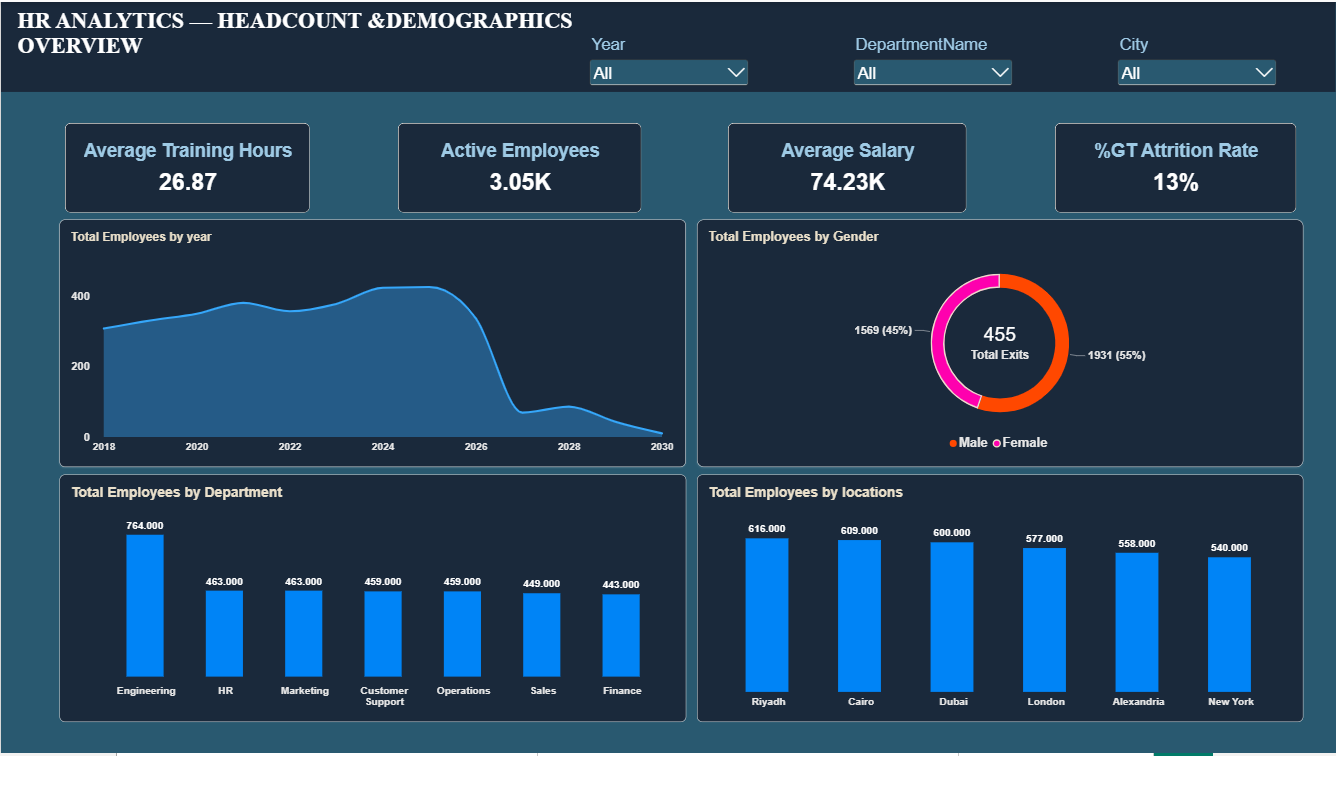

This screenshot's page, from the dashboard's own definition file:
{"tool":"powerbi","page":{"name":"HR ANALYTICS — HEADCOUNT &DEMOGRAPHICS OVERVIEW","canvas":[1920,1080],"ordinal":0},"visuals":[{"type":"shape","box":[0,0,1919.3,129.5],"z":0},{"type":"textbox","box":[22.7,0,817.7,129.5],"z":1000},{"type":"slicer","fields":{"Values":["Departments.DepartmentName"]},"box":[1221,47.7,238.5,115.8],"z":2000},{"type":"slicer","fields":{"Values":["Office_Locations.City"]},"box":[1601.3,47.7,238.5,115.8],"z":3000},{"type":"slicer","title":"years ","fields":{"Values":["Dim_Calendar.Year"]},"box":[840.8,47.7,238.5,115.8],"z":4000},{"type":"cardVisual","fields":{"Data":["ALL_MEASURES_.Active Employees"]},"box":[560.3,163.5,370.2,149.9],"z":5000},{"type":"cardVisual","fields":{"Data":["ALL_MEASURES_.Average Salary"]},"box":[1036.5,163.5,363.4,149.9],"z":6000},{"type":"cardVisual","fields":{"Data":["ALL_MEASURES_.Average Training Hours"]},"box":[81.8,163.5,372.5,149.9],"z":7000},{"type":"cardVisual","fields":{"Data":["ALL_MEASURES_.Attrition Rate %"]},"box":[1505.9,163.5,368,149.9],"z":8000},{"type":"areaChart","title":"Total Employees by year","fields":{"Category":["Dim_Calendar.Year"],"Y":["ALL_MEASURES_.Total Employees"]},"box":[83.6,313,900.7,356],"z":9000},{"type":"donutChart","title":"Total Employees by Gender","fields":{"Category":["Employees.Gender"],"Y":["ALL_MEASURES_.Total Employees"]},"box":[1001,313,872,356],"z":10000},{"type":"clusteredColumnChart","title":"Total Employees by Department","fields":{"Category":["Departments.DepartmentName"],"Y":["ALL_MEASURES_.Total Employees"]},"box":[84,679,901,356],"z":11000},{"type":"clusteredColumnChart","title":"Total Employees by locations","fields":{"Category":["Office_Locations.City"],"Y":["ALL_MEASURES_.Total Employees"]},"box":[1001,678.5,872,356],"z":12000}]}

Visuals, with their boxes on the page's 1920x1080 design canvas (x1, y1, x2, y2). These are canvas units, not pixel positions in the 1336x800 screenshot, which may show the page scaled, cropped or inside an application window:
shape: region(0, 0, 1919, 130)
textbox: region(23, 0, 840, 130)
slicer - Departments.DepartmentName: region(1221, 48, 1460, 164)
slicer - Office_Locations.City: region(1601, 48, 1840, 164)
"years " slicer: region(841, 48, 1079, 164)
cardVisual - ALL_MEASURES_.Active Employees: region(560, 164, 930, 313)
cardVisual - ALL_MEASURES_.Average Salary: region(1036, 164, 1400, 313)
cardVisual - ALL_MEASURES_.Average Training Hours: region(82, 164, 454, 313)
cardVisual - ALL_MEASURES_.Attrition Rate %: region(1506, 164, 1874, 313)
"Total Employees by year" areaChart: region(84, 313, 984, 669)
"Total Employees by Gender" donutChart: region(1001, 313, 1873, 669)
"Total Employees by Department" clusteredColumnChart: region(84, 679, 985, 1035)
"Total Employees by locations" clusteredColumnChart: region(1001, 678, 1873, 1034)
